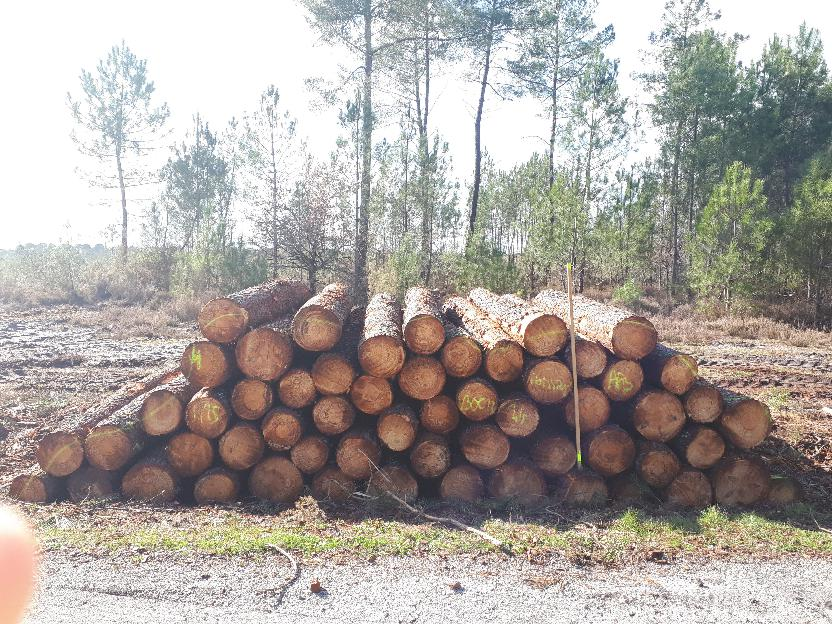etalon: (564, 260, 584, 472)
object: (713, 459, 771, 508), (632, 392, 686, 444), (235, 328, 290, 378), (721, 398, 773, 448), (247, 458, 302, 504), (292, 305, 342, 353), (196, 298, 247, 344), (82, 424, 132, 470), (459, 424, 507, 470), (491, 464, 546, 504), (524, 361, 572, 406), (561, 386, 606, 434), (218, 424, 264, 470), (588, 428, 634, 474), (166, 432, 212, 478), (368, 465, 418, 507), (180, 343, 226, 388), (358, 332, 405, 376), (678, 428, 726, 470), (401, 355, 446, 399), (37, 432, 82, 476), (524, 314, 568, 358), (610, 315, 656, 357), (226, 380, 274, 420), (336, 436, 382, 477), (122, 467, 174, 503), (312, 354, 356, 396), (140, 391, 182, 435), (494, 395, 538, 437), (602, 357, 642, 403), (184, 396, 228, 437), (530, 437, 576, 476), (440, 336, 482, 378), (456, 382, 498, 424), (312, 395, 356, 435), (312, 466, 358, 504), (410, 439, 452, 480), (404, 313, 444, 355), (486, 340, 524, 384), (440, 465, 482, 503), (668, 470, 712, 506), (68, 468, 113, 502), (660, 354, 698, 394), (418, 396, 458, 434), (375, 414, 413, 454), (640, 450, 678, 490), (350, 377, 392, 413), (280, 370, 316, 410), (260, 414, 300, 450), (194, 473, 236, 507), (289, 437, 327, 474), (566, 340, 606, 374), (687, 386, 719, 424), (561, 476, 606, 502), (9, 476, 46, 506), (770, 478, 802, 510), (614, 477, 654, 502)
pile: (7, 293, 801, 509)
